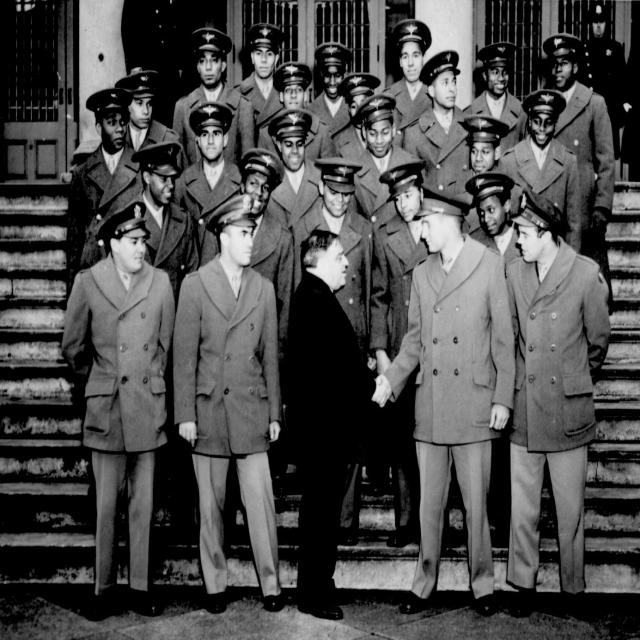body: (373, 183, 517, 618), (60, 196, 178, 625), (169, 198, 287, 618), (504, 186, 612, 624), (278, 224, 392, 622), (286, 156, 384, 550), (368, 157, 452, 556), (64, 86, 144, 312), (543, 32, 617, 252), (112, 139, 201, 310), (498, 86, 586, 256), (234, 144, 296, 368), (262, 104, 328, 301), (170, 23, 255, 174), (172, 100, 242, 271), (402, 48, 474, 196), (345, 92, 426, 223), (574, 8, 632, 161), (255, 64, 336, 162), (376, 15, 434, 149), (114, 68, 188, 172), (230, 21, 289, 149), (462, 40, 530, 151), (463, 167, 525, 264), (305, 41, 354, 155), (450, 111, 510, 204), (328, 72, 382, 164), (617, 19, 640, 190)
